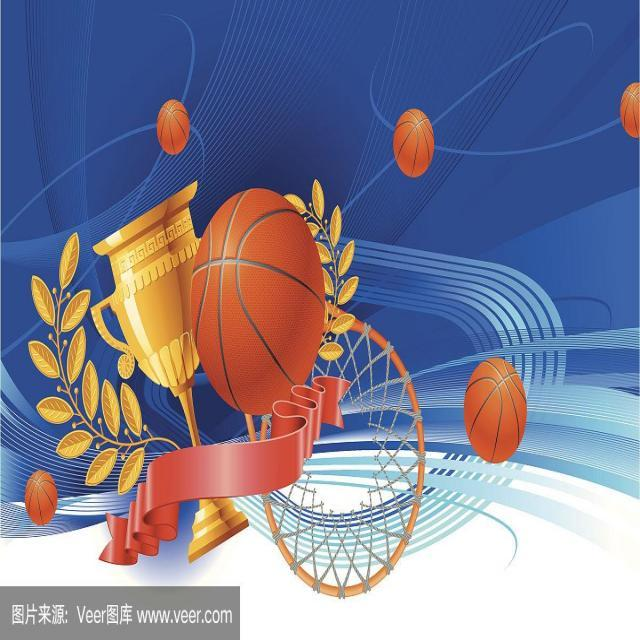rim: (188, 190, 325, 416), (464, 360, 528, 460), (394, 110, 432, 178), (156, 98, 190, 157), (26, 471, 58, 524), (619, 82, 640, 138)
